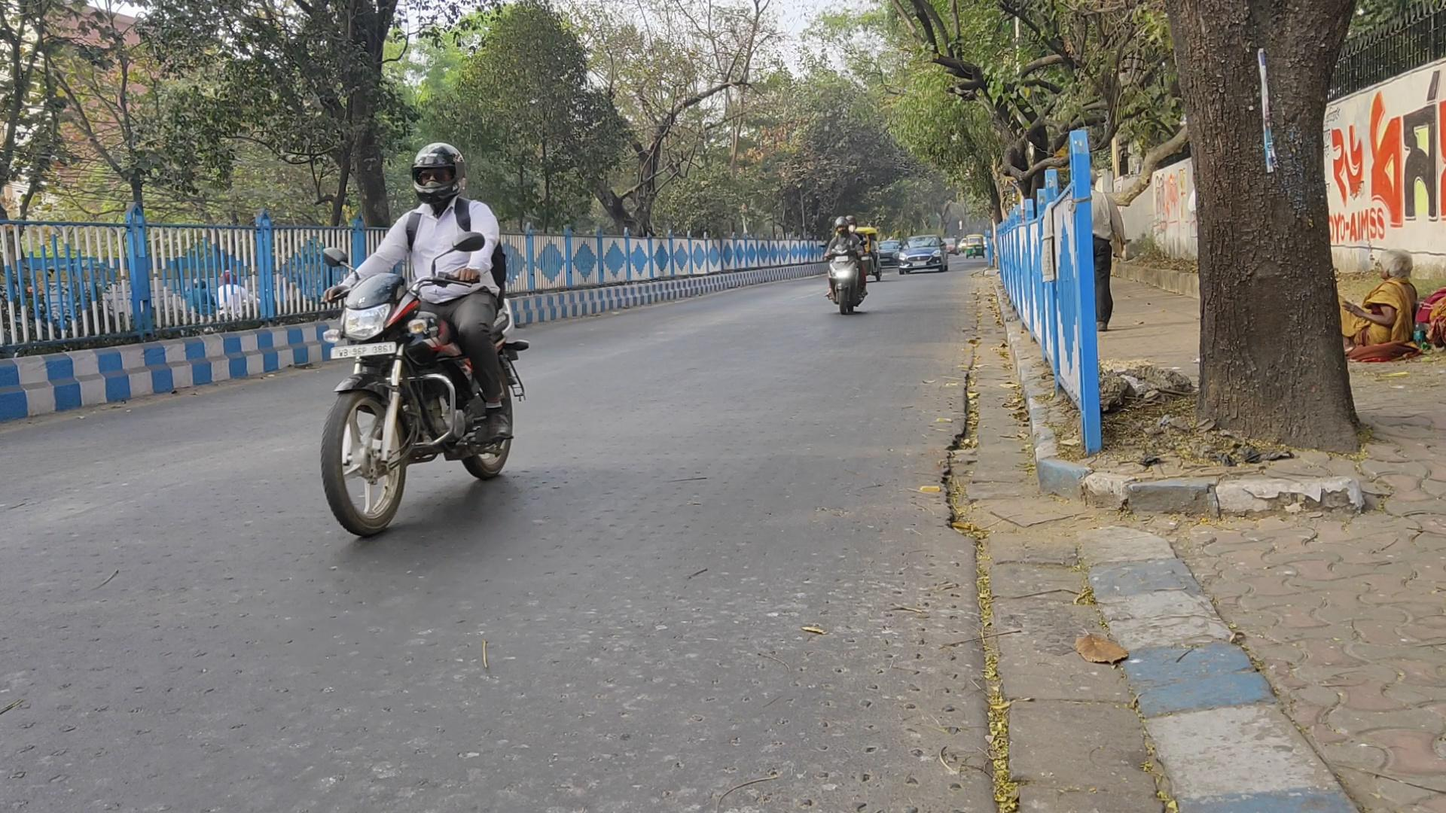Auto: (830, 227, 883, 282), (965, 233, 986, 260)
bike: (320, 142, 526, 537), (826, 215, 868, 315)
car: (896, 234, 950, 276)
